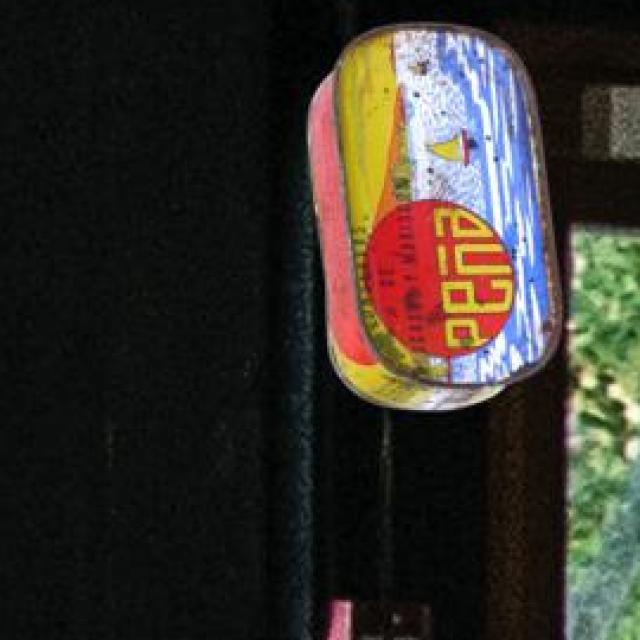logam: (305, 20, 558, 407)
